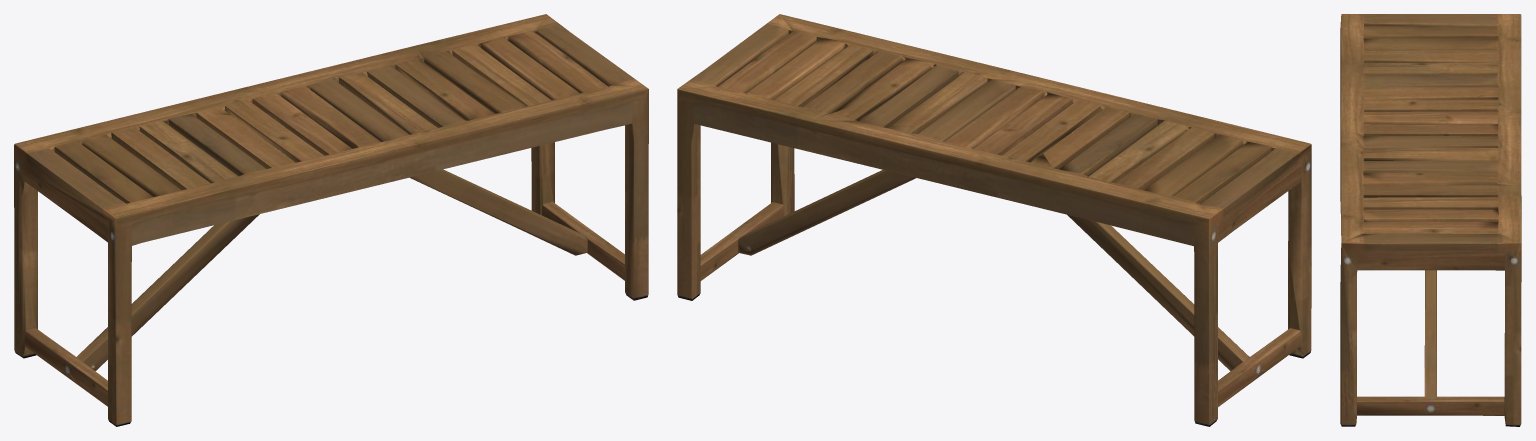
Rendered from 02 - NÄMMARÖ Bench, outdoor - light brown stained 120 cm.glb.
3 views of the same model, side by side, from view 1: azimuth 30°, elevation 25°; view 2: azimuth 150°, elevation 25°; view 3: azimuth 270°, elevation 25° (orthographic). The views are drawn at different scales.
Parts seen in each view (by area): view 1: ProcessedMeshNode; view 2: ProcessedMeshNode; view 3: ProcessedMeshNode.
Boxes of the visible parts, <box> form: ProcessedMeshNode: <box>14,14,648,426</box>; ProcessedMeshNode: <box>677,14,1311,426</box>; ProcessedMeshNode: <box>1340,14,1521,426</box>.
Size of the model in its own units: 1.2 by 0.4516 by 0.4009.
Materials: 1 (1 with a texture image).
